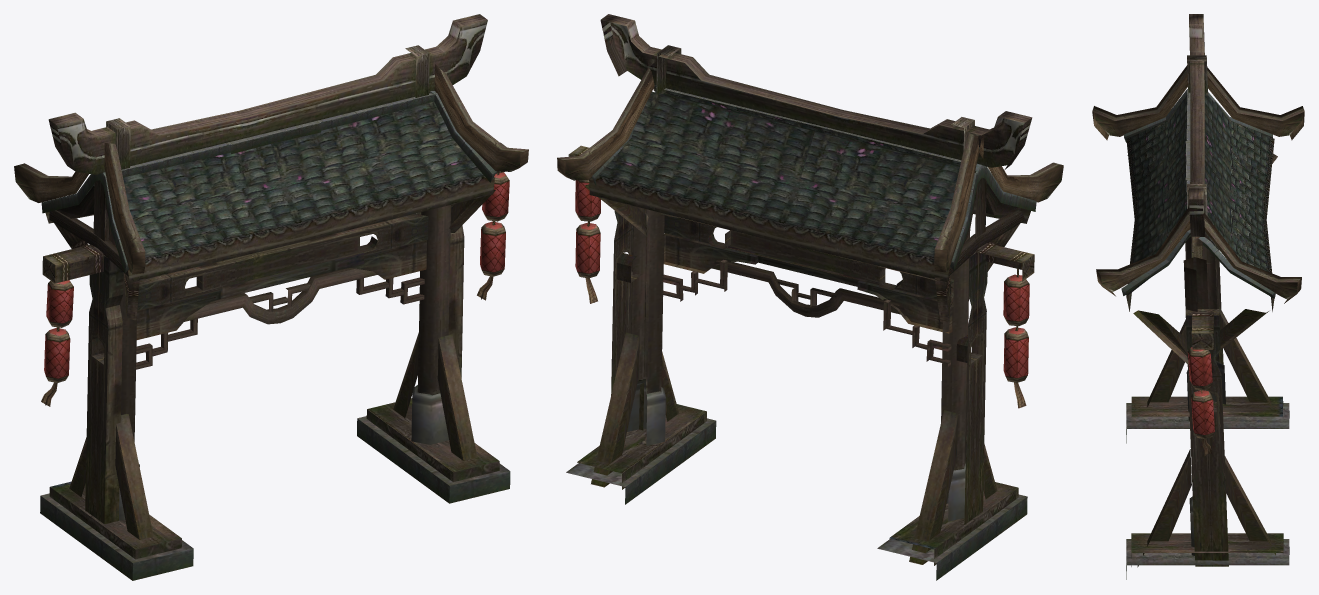
The model's file is SC001Jjianzhu_41.FBX.
The picture shows the model from 3 angles, left to right: view 1: azimuth 30°, elevation 25°; view 2: azimuth 150°, elevation 25°; view 3: azimuth 270°, elevation 25°; orthographic projection. The views are drawn at different scales.
Parts seen in each view (by area): view 1: SC001Jjianzhu_41; view 2: SC001Jjianzhu_41; view 3: SC001Jjianzhu_41.
Boxes of the visible parts, x1,y1,x2,y2 form: SC001Jjianzhu_41: (14,14,528,580); SC001Jjianzhu_41: (557,14,1063,580); SC001Jjianzhu_41: (1092,14,1304,579).
Bounding box in the file's own units: 10.69 × 9.74 × 4.85.
